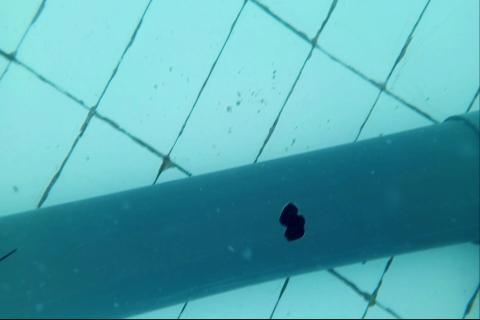kebocoran: (278, 201, 307, 243)
keretakan: (0, 245, 19, 263)
